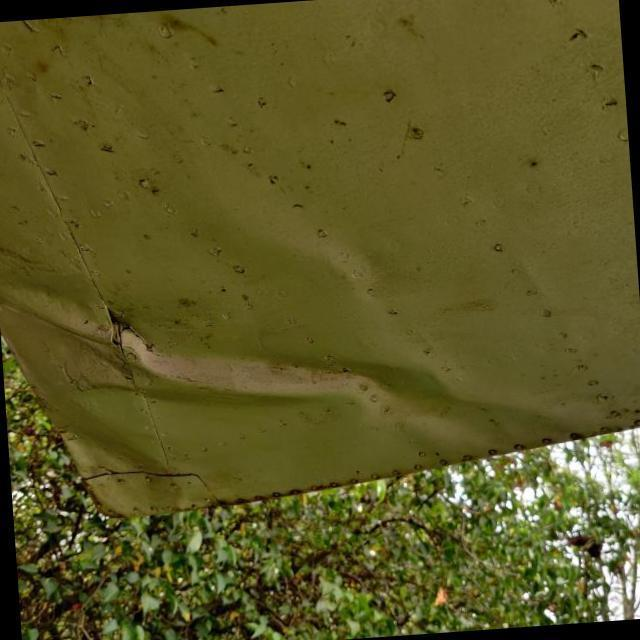Dent: (0, 213, 604, 542), (58, 415, 188, 530)
Rupture: (113, 317, 168, 364)
